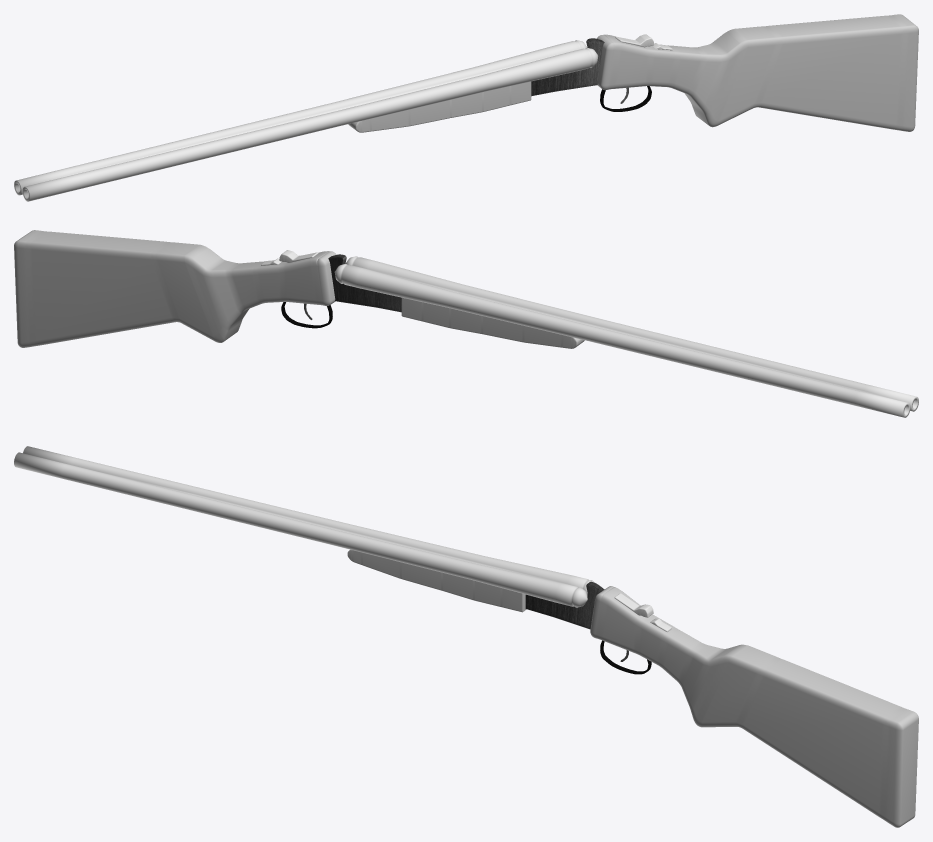
The model's file is shotty.fbx.
3 renders of one model, top to bottom at view 1: azimuth 30°, elevation 25°; view 2: azimuth 150°, elevation 25°; view 3: azimuth 330°, elevation 25°, orthographic.
Visible parts, largest first — view 1: Cube.002, Cylinder, Cube, Cube.001; view 2: Cube.002, Cylinder, Cube, Cube.001; view 3: Cube.002, Cylinder, Cube, Cube.001.
Boxes of the visible parts, x1,y1,x2,y2 form: Cube.002: [597, 14, 918, 131]; Cylinder: [14, 40, 598, 201]; Cube: [348, 81, 531, 132]; Cube.001: [531, 38, 604, 96]; Cube.002: [14, 230, 336, 347]; Cylinder: [334, 256, 918, 417]; Cube: [401, 297, 584, 348]; Cube.001: [328, 254, 401, 312]; Cube.002: [590, 586, 918, 827]; Cylinder: [14, 446, 594, 607]; Cube: [347, 549, 526, 612]; Cube.001: [525, 581, 604, 629].
Size of the model in its own units: 492 by 86.56 by 19.93.
